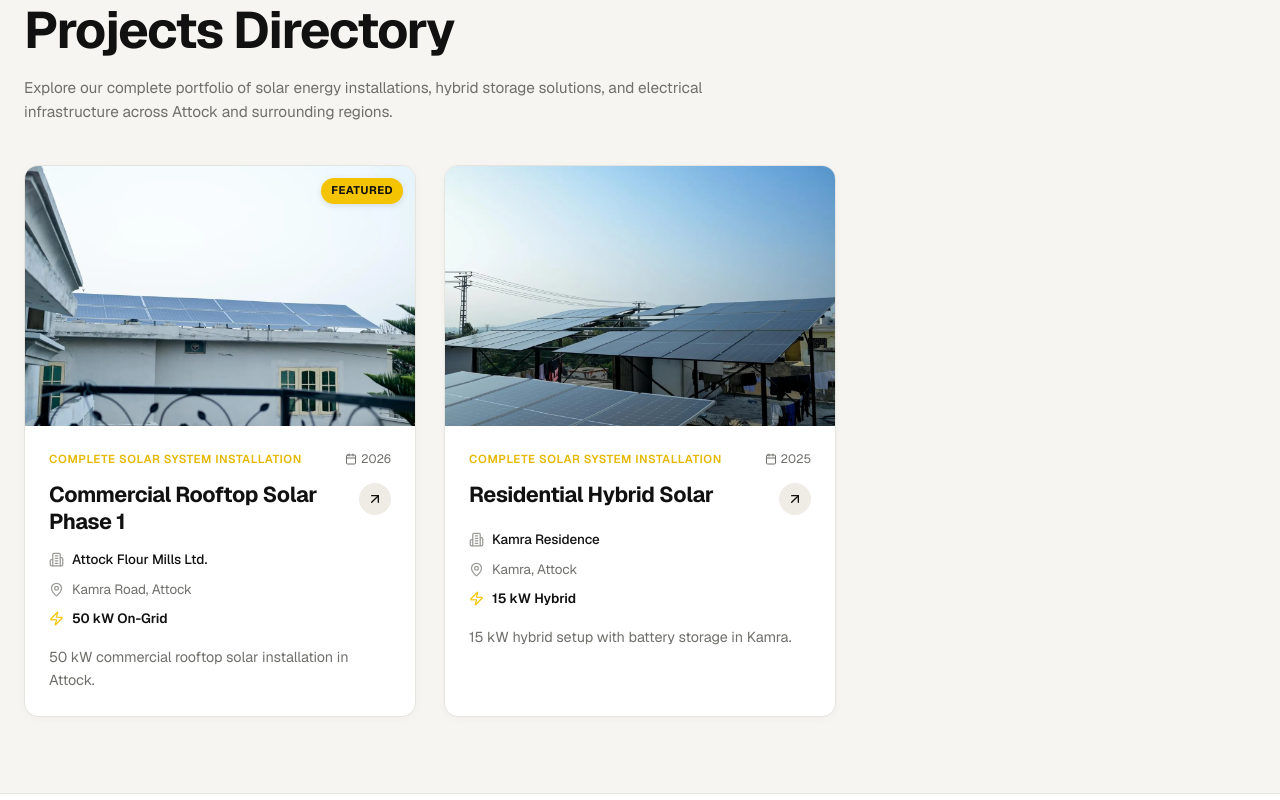
Test: ProjectsDirectoryPage (/projects) › Project Detail Modal Overlay › supports keyboard opening via Enter or Space key on project card
(page scrolled)
Expected: the heading "Commercial Rooftop Solar Phase 1" is shown, [49,481,347,535]
# Press Enter
Press Enter in the button with aria-label "View details for Commercial Rooftop Solar Phase 1", box [24,165,416,717]
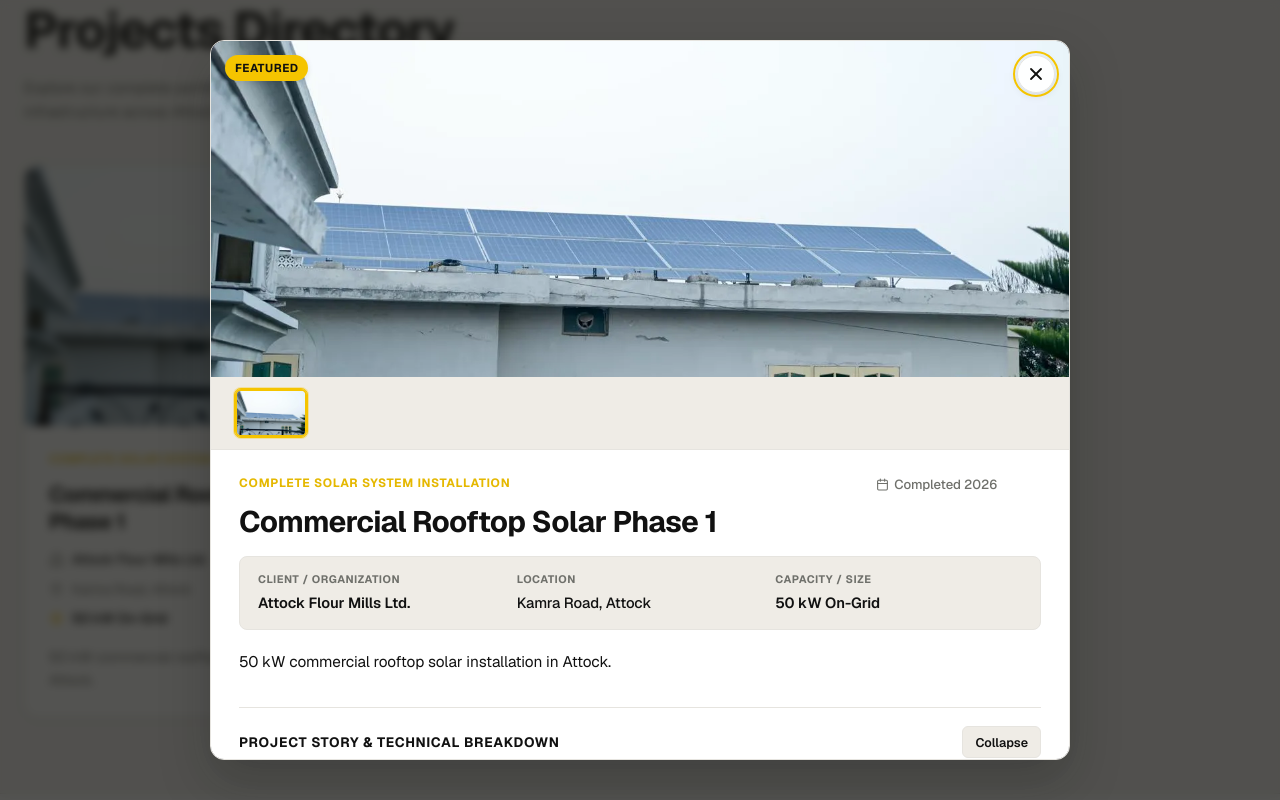
Expected: the dialog is shown
# Close modal
Click the button named "Close project details". click: (1036, 74)
box: [1017,55,1055,93]
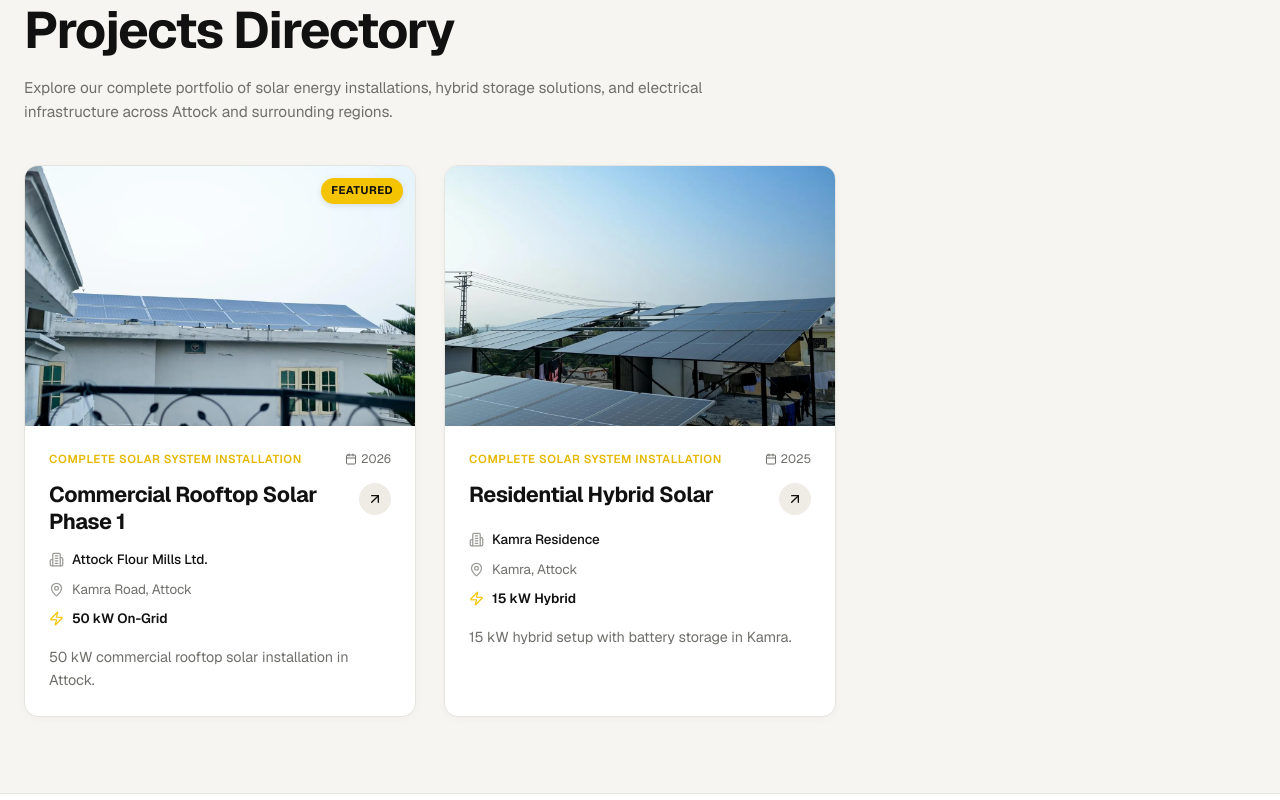
Expected: the dialog is gone
# Press Space
Press Space in the button with aria-label "View details for Commercial Rooftop Solar Phase 1", box [24,165,416,717]
(page scrolled)
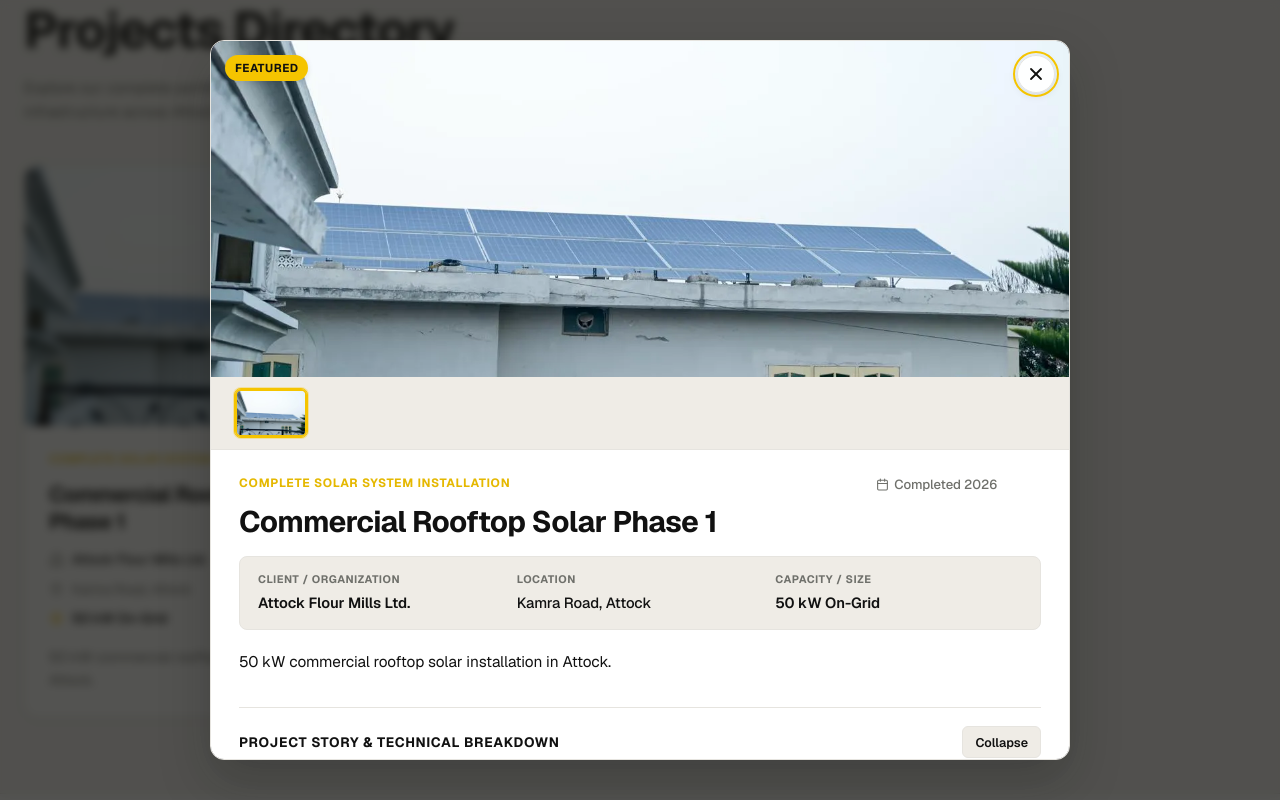
Expected: the dialog is shown
